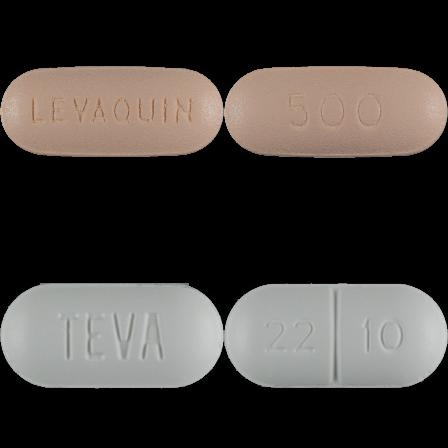54868-3923: (0, 0, 224, 224)
